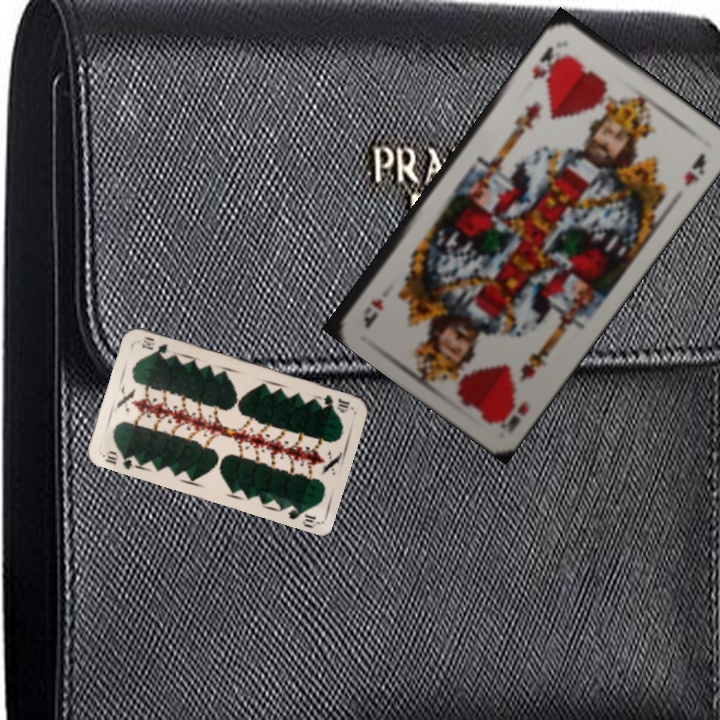G10: (99, 447, 140, 472), (319, 391, 352, 414)
HK: (528, 42, 569, 85), (493, 394, 532, 436)
